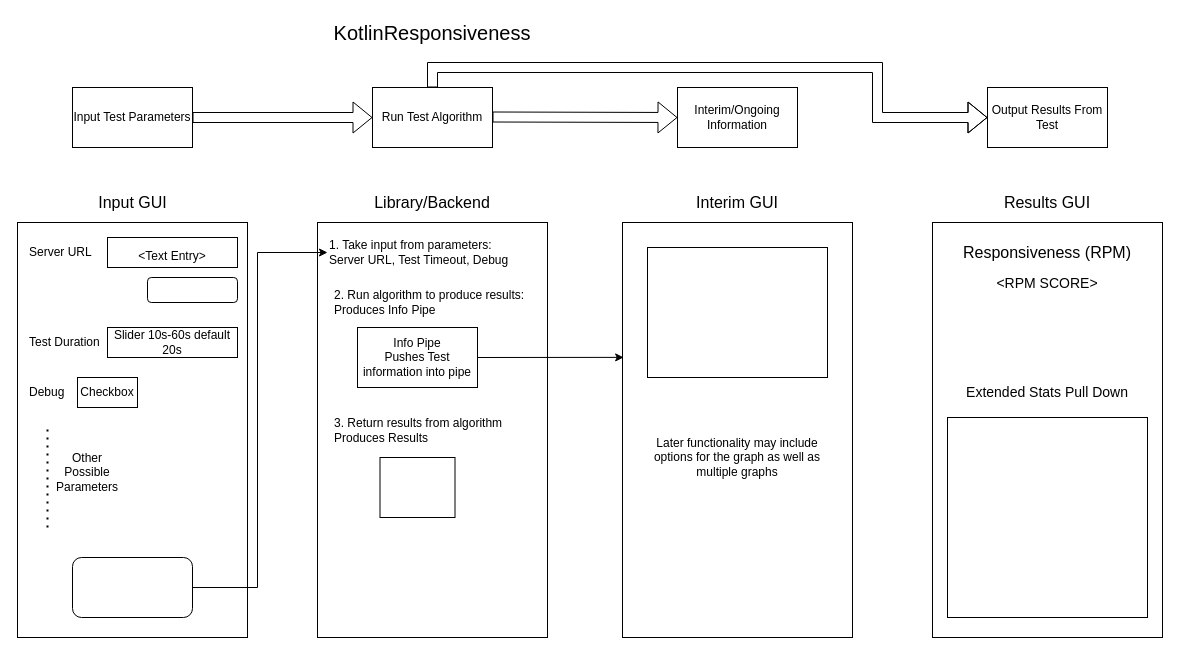
This 1180x655 diagram has some shape labels left out. Each missing label, with the centre of its shape:
Graph of stats (like download speed or current RTT) on a time series line graph: point (737, 312)
Results: point (417, 487)
START TEST: point (132, 587)
Test URL: point (192, 289)
